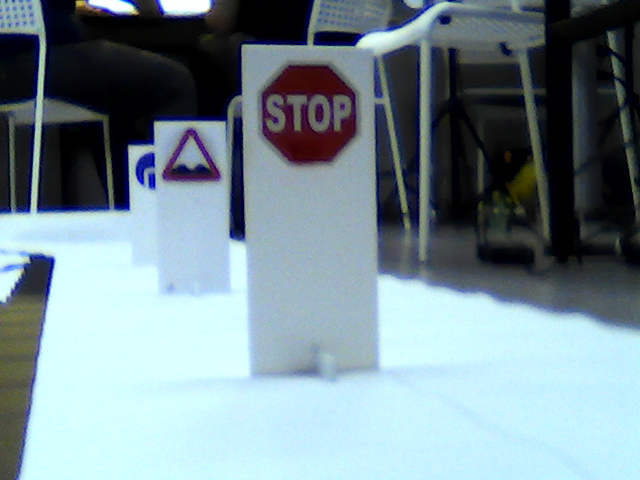Nerov: (162, 125, 221, 183)
Stop: (256, 59, 362, 168)
